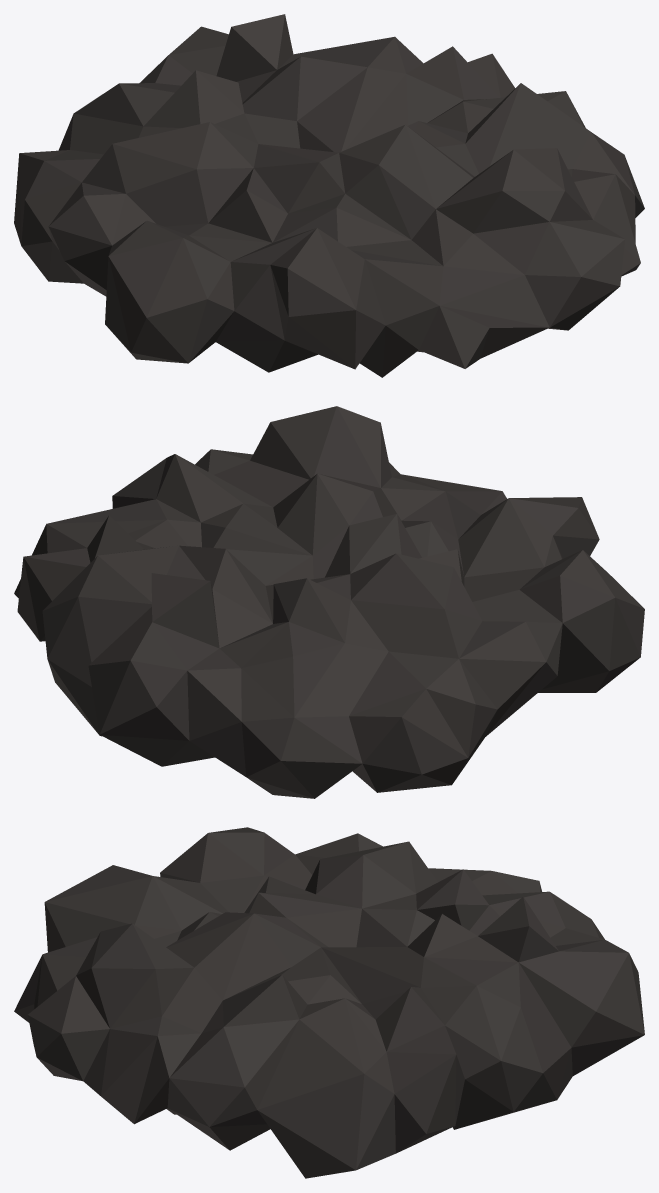
Rendered from Rock_10.fbx.
3 views of the same model, one above another, from view 1: azimuth 30°, elevation 25°; view 2: azimuth 150°, elevation 25°; view 3: azimuth 270°, elevation 25° (orthographic). The views are drawn at different scales.
Parts seen in each view (by area): view 1: Group49170; view 2: Group49170; view 3: Group49170.
Boxes of the visible parts, x1,y1,x2,y2 form: Group49170: (14,14,644,377); Group49170: (14,406,644,798); Group49170: (14,827,644,1178).
Size of the model in its own units: 3.62 by 1.24 by 3.73.
